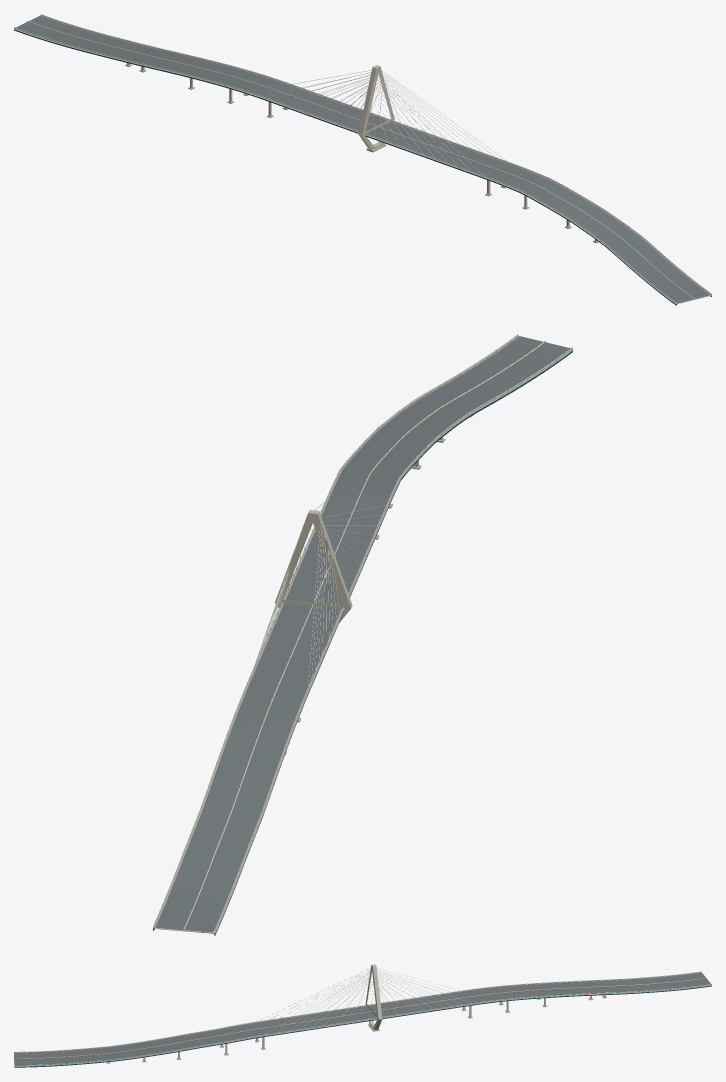
File: christopher-s-bond-bridge-far.glb
3 views of the same model, one above another, from view 1: azimuth 30°, elevation 25°; view 2: azimuth 150°, elevation 25°; view 3: azimuth 270°, elevation 25° (orthographic). The views are drawn at different scales.
Parts seen in each view (by area): view 1: christopher-s-bond-bridge-0-asphalt, christopher-s-bond-bridge-0-concrete, christopher-s-bond-bridge-0-cable, christopher-s-bond-bridge-0-steel, christopher-s-bond-bridge-0-rail; view 2: christopher-s-bond-bridge-0-asphalt, christopher-s-bond-bridge-0-concrete, christopher-s-bond-bridge-0-cable, christopher-s-bond-bridge-0-rail, christopher-s-bond-bridge-0-steel; view 3: christopher-s-bond-bridge-0-asphalt, christopher-s-bond-bridge-0-concrete, christopher-s-bond-bridge-0-cable, christopher-s-bond-bridge-0-steel, christopher-s-bond-bridge-0-rail.
Boxes of the visible parts, x1=… form: christopher-s-bond-bridge-0-asphalt: x1=16, y1=15, x2=710, y2=303; christopher-s-bond-bridge-0-concrete: x1=14, y1=14, x2=711, y2=304; christopher-s-bond-bridge-0-cable: x1=265, y1=70, x2=508, y2=174; christopher-s-bond-bridge-0-steel: x1=14, y1=29, x2=711, y2=305; christopher-s-bond-bridge-0-rail: x1=15, y1=15, x2=711, y2=302; christopher-s-bond-bridge-0-asphalt: x1=155, y1=336, x2=570, y2=932; christopher-s-bond-bridge-0-concrete: x1=152, y1=334, x2=573, y2=933; christopher-s-bond-bridge-0-cable: x1=248, y1=500, x2=386, y2=687; christopher-s-bond-bridge-0-rail: x1=153, y1=334, x2=572, y2=930; christopher-s-bond-bridge-0-steel: x1=153, y1=350, x2=572, y2=935; christopher-s-bond-bridge-0-asphalt: x1=14, y1=972, x2=710, y2=1065; christopher-s-bond-bridge-0-concrete: x1=14, y1=964, x2=711, y2=1066; christopher-s-bond-bridge-0-cable: x1=255, y1=968, x2=471, y2=1034; christopher-s-bond-bridge-0-steel: x1=14, y1=985, x2=711, y2=1067; christopher-s-bond-bridge-0-rail: x1=14, y1=971, x2=710, y2=1065.
Size of the model in its own units: 309 by 98.27 by 969.
